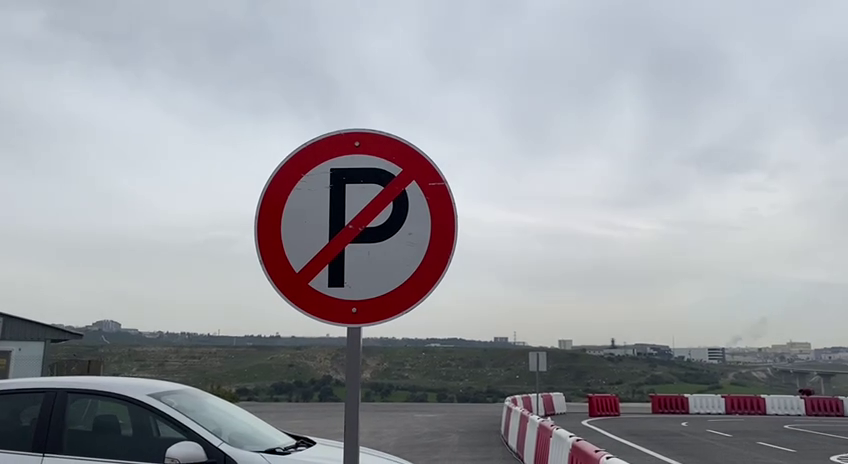noparking: (252, 118, 462, 332)
